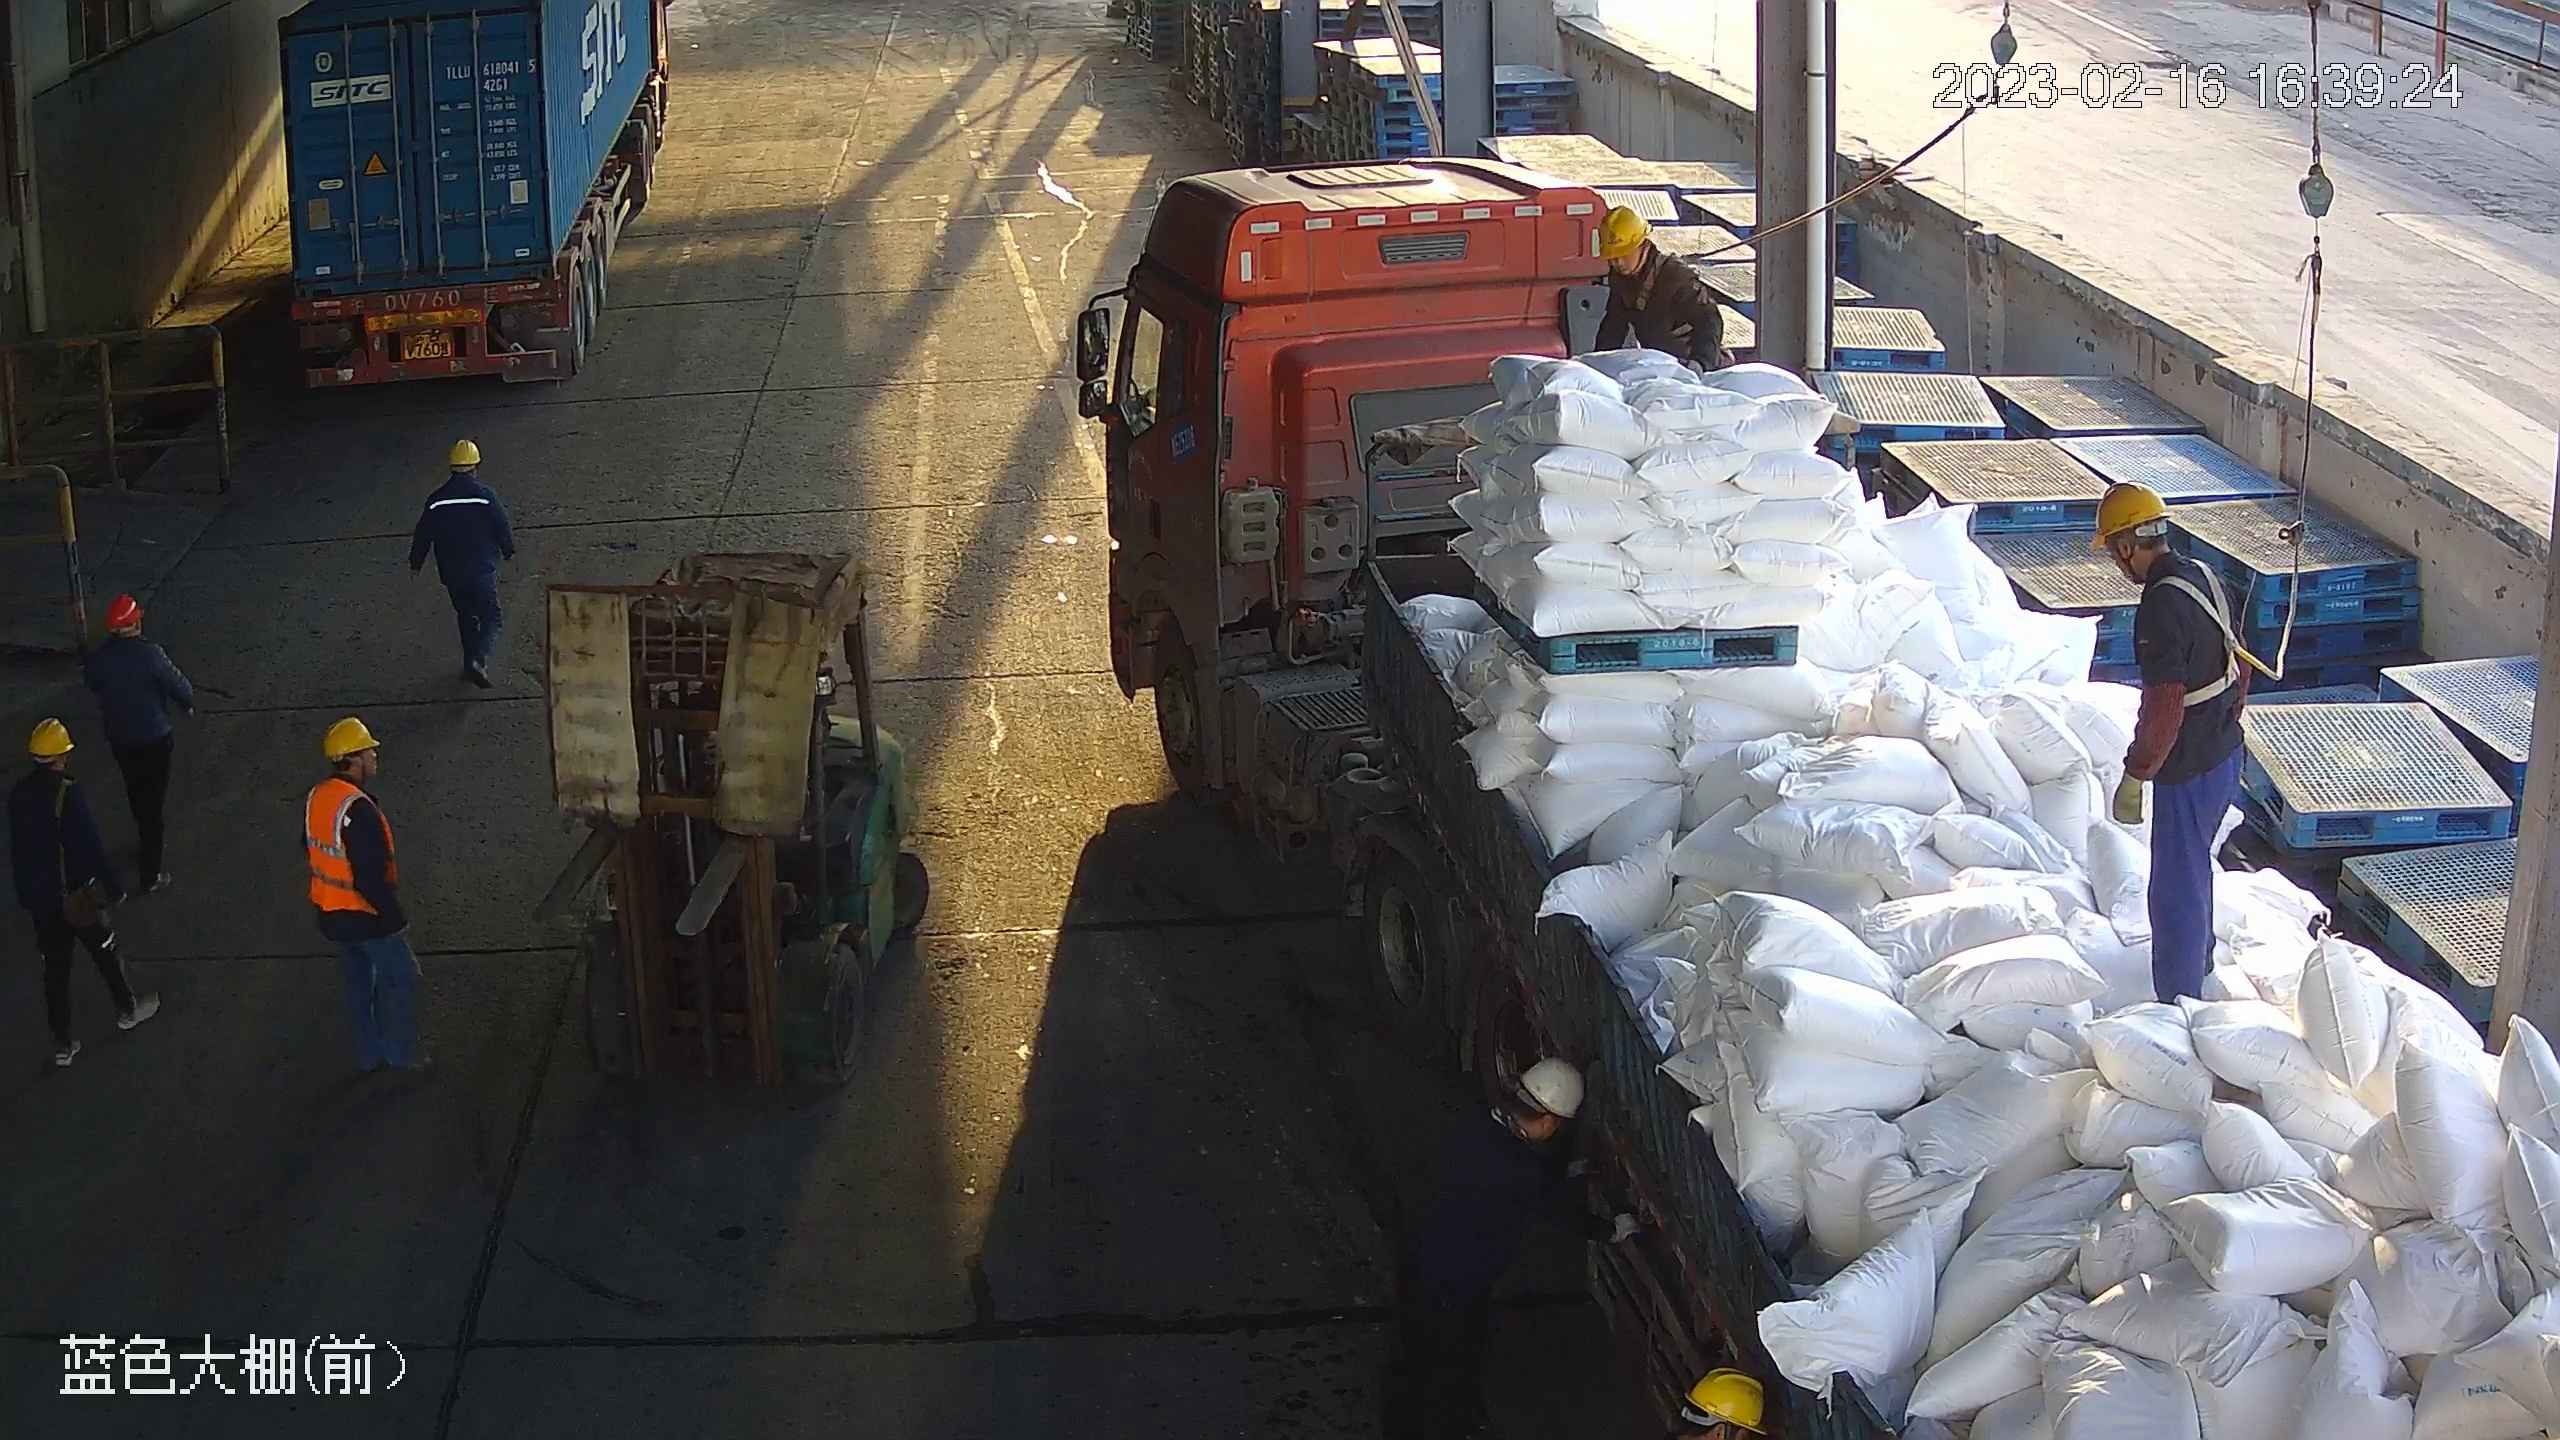belt: (2141, 555, 2279, 709), (1618, 253, 1725, 340)
head: (2089, 480, 2251, 629), (300, 712, 390, 828), (1595, 201, 1701, 286), (7, 713, 88, 808), (82, 592, 176, 674), (411, 437, 510, 506)
helmet: (2088, 480, 2175, 550), (1597, 202, 1653, 259), (321, 715, 380, 758), (26, 716, 76, 758), (104, 592, 145, 631), (448, 436, 480, 467)
people: (2088, 480, 2254, 1005), (4, 715, 165, 1069), (296, 712, 441, 1076), (79, 592, 201, 898), (405, 437, 523, 692), (1593, 202, 1724, 374)
truck: (1100, 150, 2560, 1440)
